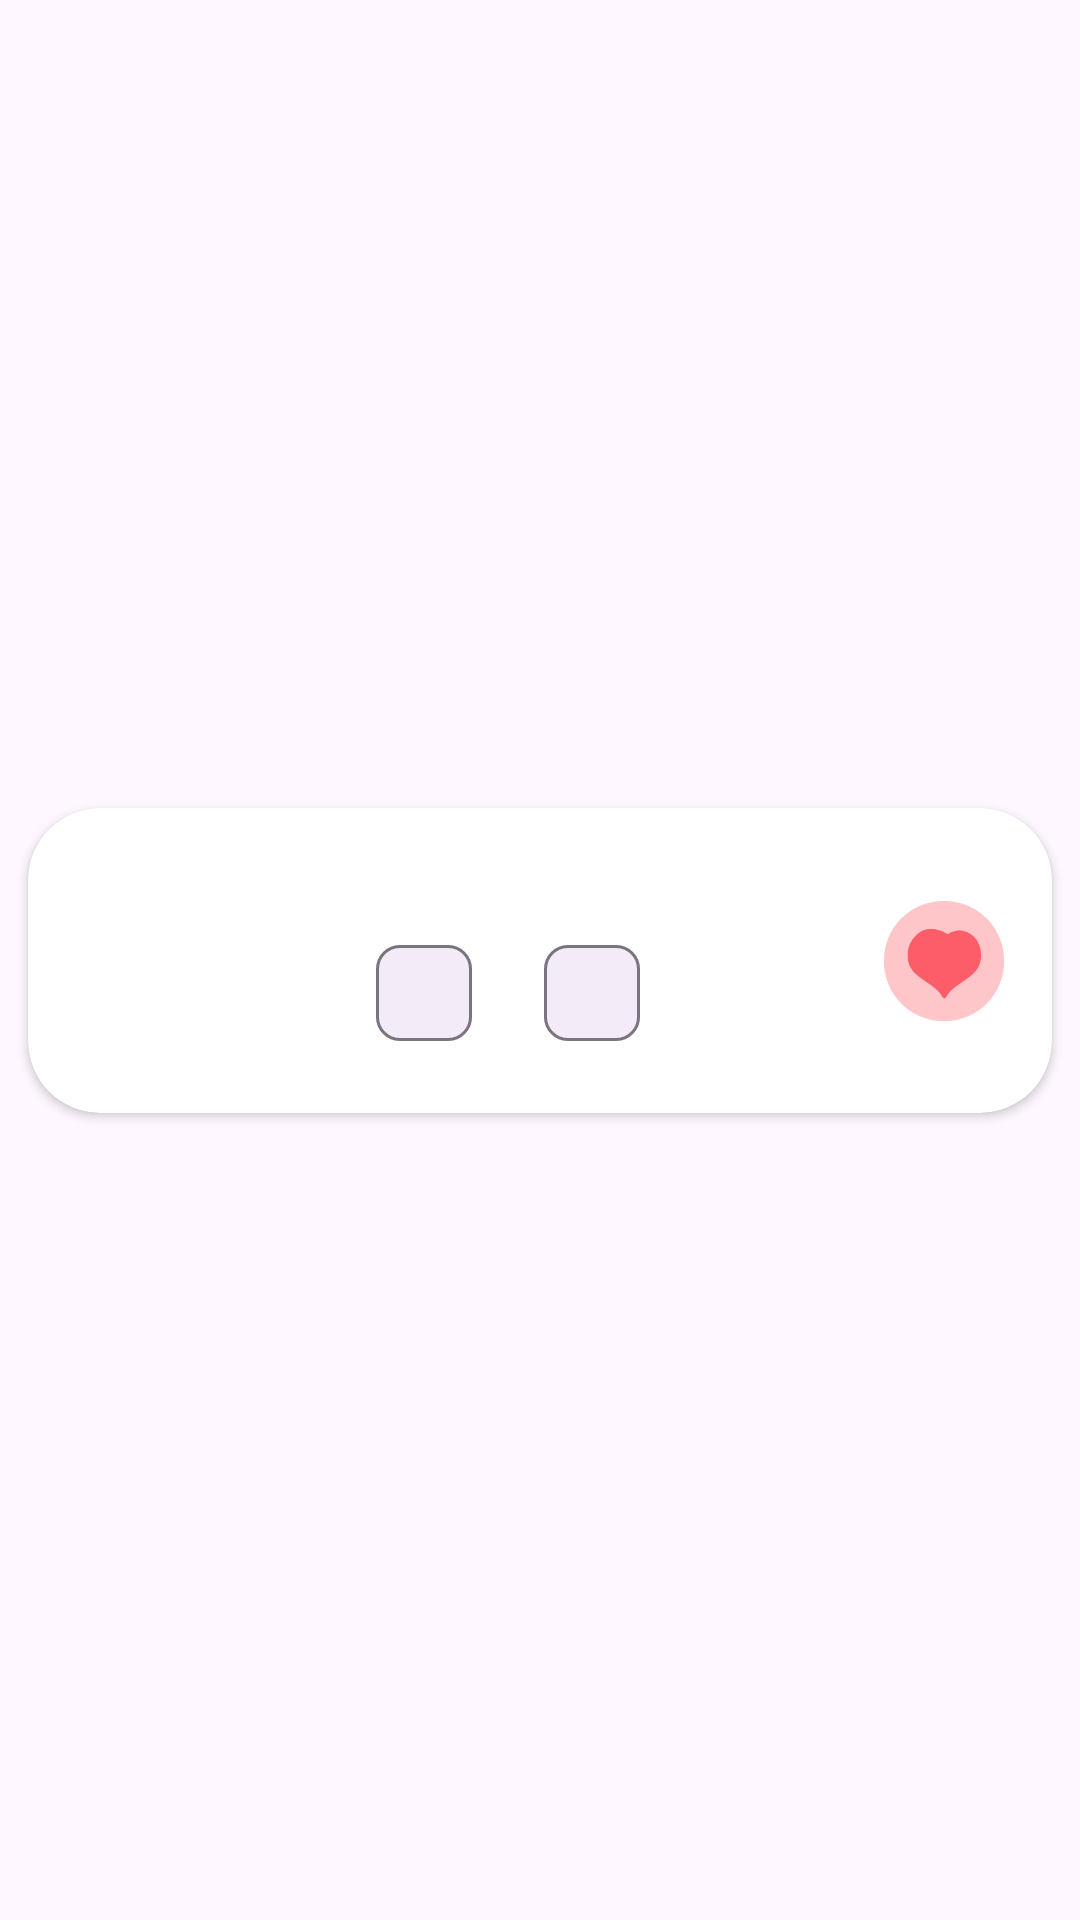

Where to tap for icons on this 1080 x 1920 app screen, as (x=x, y=y):
remove from favorite: (x=944, y=961)
